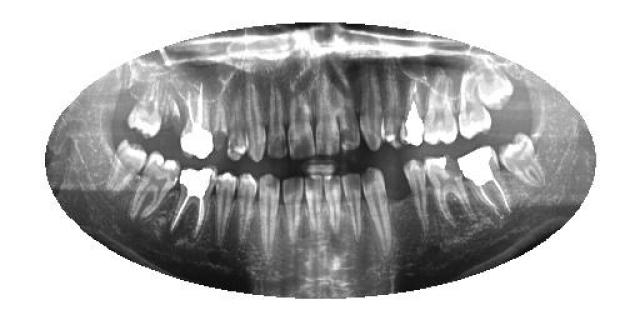Cavity: (424, 154, 481, 225), (214, 100, 228, 152)
Implant: (458, 144, 512, 218), (172, 166, 216, 244), (180, 81, 214, 161), (400, 76, 426, 148)
Restorations: (472, 60, 518, 110)
